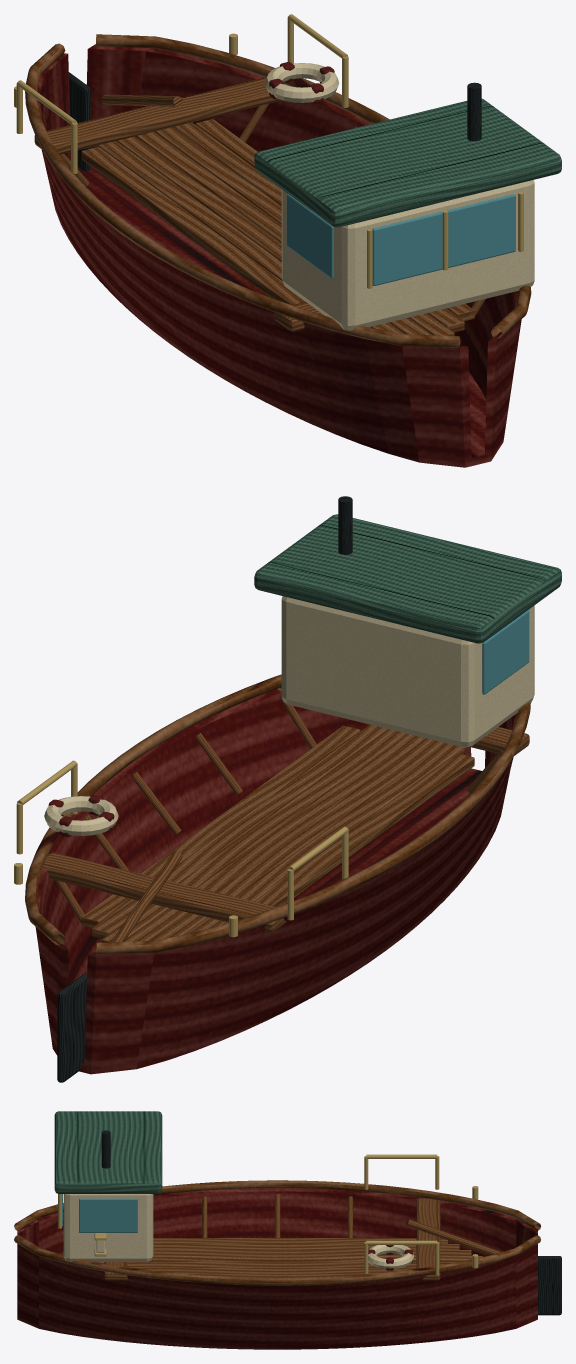
Rendered from SM_CabinLaunch.glb.
The picture shows the model from 3 angles, top to bottom: view 1: azimuth 30°, elevation 25°; view 2: azimuth 150°, elevation 25°; view 3: azimuth 270°, elevation 25°; orthographic projection. The views are drawn at different scales.
Visible parts, largest first — view 1: SM_CabinLaunch; view 2: SM_CabinLaunch; view 3: SM_CabinLaunch.
Part boxes in pixels (x1,y1,x2,y2): SM_CabinLaunch: (14, 14, 561, 467); SM_CabinLaunch: (14, 496, 561, 1082); SM_CabinLaunch: (14, 1111, 561, 1349).
Bounding box in the file's own units: 2.02 × 1.9 × 4.63.
Materials: 7 (5 with a texture image).
